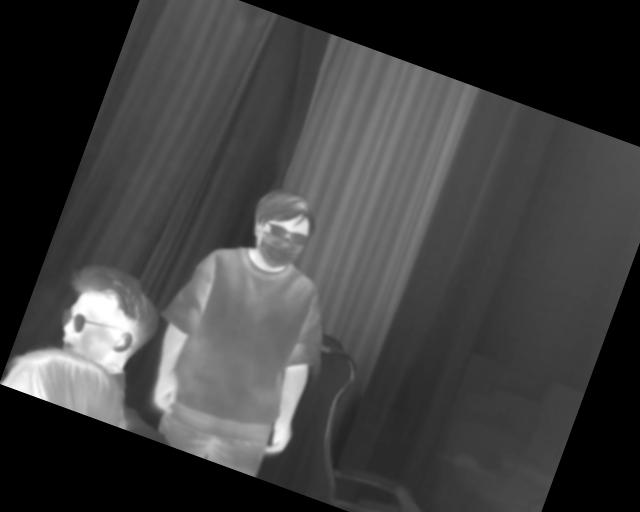face: (239, 182, 324, 277)
